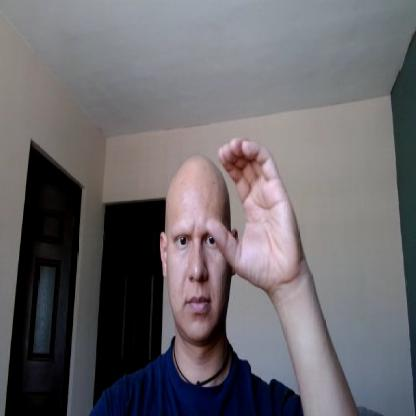C: (207, 140, 302, 290)
